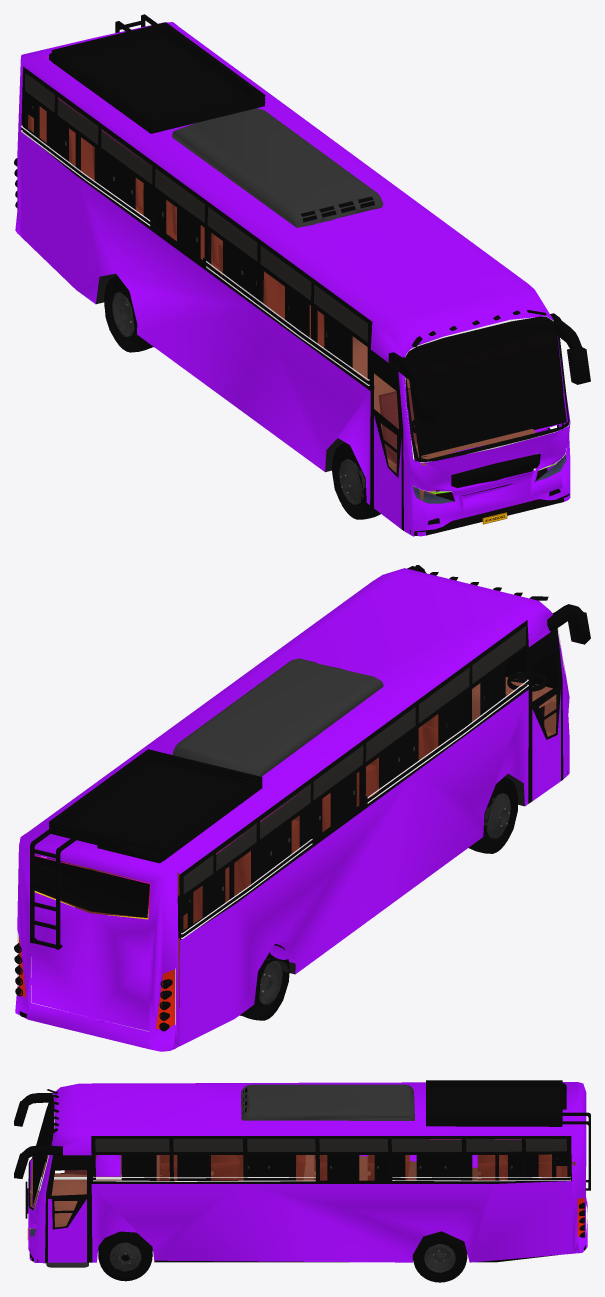
File: tourbus-real.glb
3 renders of one model, top to bottom at view 1: azimuth 30°, elevation 25°; view 2: azimuth 150°, elevation 25°; view 3: azimuth 270°, elevation 25°, orthographic. The views are drawn at different scales.
Parts seen in each view (by area): view 1: Plane_106, Cube.004_6, Cube.003_5, Cube.102_85, Object_4, Cube.029_31, Cube.103_86, Cube.001_4, Cube.104_87, Cube.080_81, Cube.030_32, Cube.043_44 (+1 smaller); view 2: Plane_106, Cube.004_6, Cube.003_5, Cube.102_85, Object_4, Cube.080_81, Cube.029_31, Cube.001_4, Cube.005_7, Cube.079_80; view 3: Plane_106, Cube.091_84, Cube.004_6, Cube.003_5, Object_4, Cube.029_31, Cube.081_82, Cube.104_87, Cube.045_46, Cube.070_71, Cube.001_4, Cube.082_83 (+3 smaller).
Boxes of the visible parts, bbox=[...] form: Plane_106: bbox=[15, 22, 570, 536]; Cube.004_6: bbox=[51, 22, 265, 133]; Cube.003_5: bbox=[172, 108, 383, 227]; Cube.102_85: bbox=[24, 95, 346, 368]; Object_4: bbox=[104, 275, 415, 519]; Cube.029_31: bbox=[352, 299, 547, 526]; Cube.103_86: bbox=[451, 453, 540, 487]; Cube.001_4: bbox=[388, 352, 434, 422]; Cube.104_87: bbox=[550, 313, 590, 384]; Cube.080_81: bbox=[24, 102, 352, 371]; Cube.030_32: bbox=[378, 388, 417, 464]; Cube.043_44: bbox=[263, 271, 284, 319]; Plane_106: bbox=[15, 568, 569, 1051]; Cube.004_6: bbox=[49, 749, 262, 861]; Cube.003_5: bbox=[172, 658, 383, 776]; Cube.102_85: bbox=[183, 666, 502, 920]; Object_4: bbox=[239, 671, 546, 1020]; Cube.080_81: bbox=[177, 665, 505, 938]; Cube.029_31: bbox=[179, 628, 556, 1010]; Cube.001_4: bbox=[547, 604, 590, 644]; Cube.005_7: bbox=[97, 838, 162, 863]; Cube.079_80: bbox=[183, 684, 525, 933]; Plane_106: bbox=[28, 1082, 587, 1263]; Cube.091_84: bbox=[126, 1154, 567, 1180]; Cube.004_6: bbox=[426, 1080, 562, 1126]; Cube.003_5: bbox=[241, 1084, 414, 1120]; Object_4: bbox=[45, 1158, 467, 1282]; Cube.029_31: bbox=[30, 1084, 480, 1229]; Cube.081_82: bbox=[92, 1152, 565, 1183]; Cube.104_87: bbox=[14, 1145, 62, 1178]; Cube.045_46: bbox=[211, 1155, 240, 1175]; Cube.070_71: bbox=[477, 1155, 507, 1175]; Cube.001_4: bbox=[14, 1093, 52, 1126]; Cube.082_83: bbox=[121, 1154, 556, 1180].
Size of the model in its own units: 3.45 by 4.41 by 14.45.
Materials: 7 (7 with a texture image).
